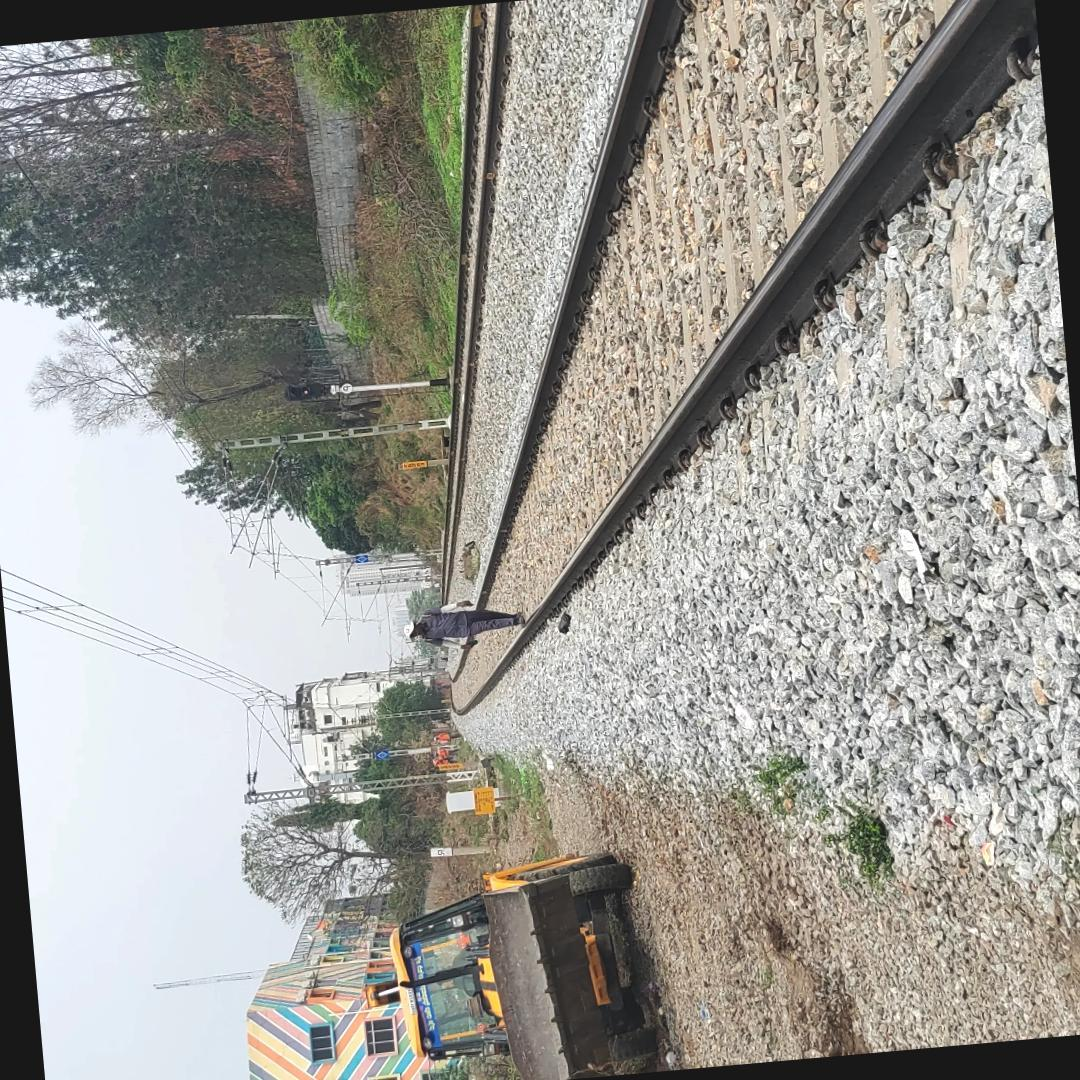standing: (394, 588, 540, 656)
track: (440, 0, 1044, 731)
